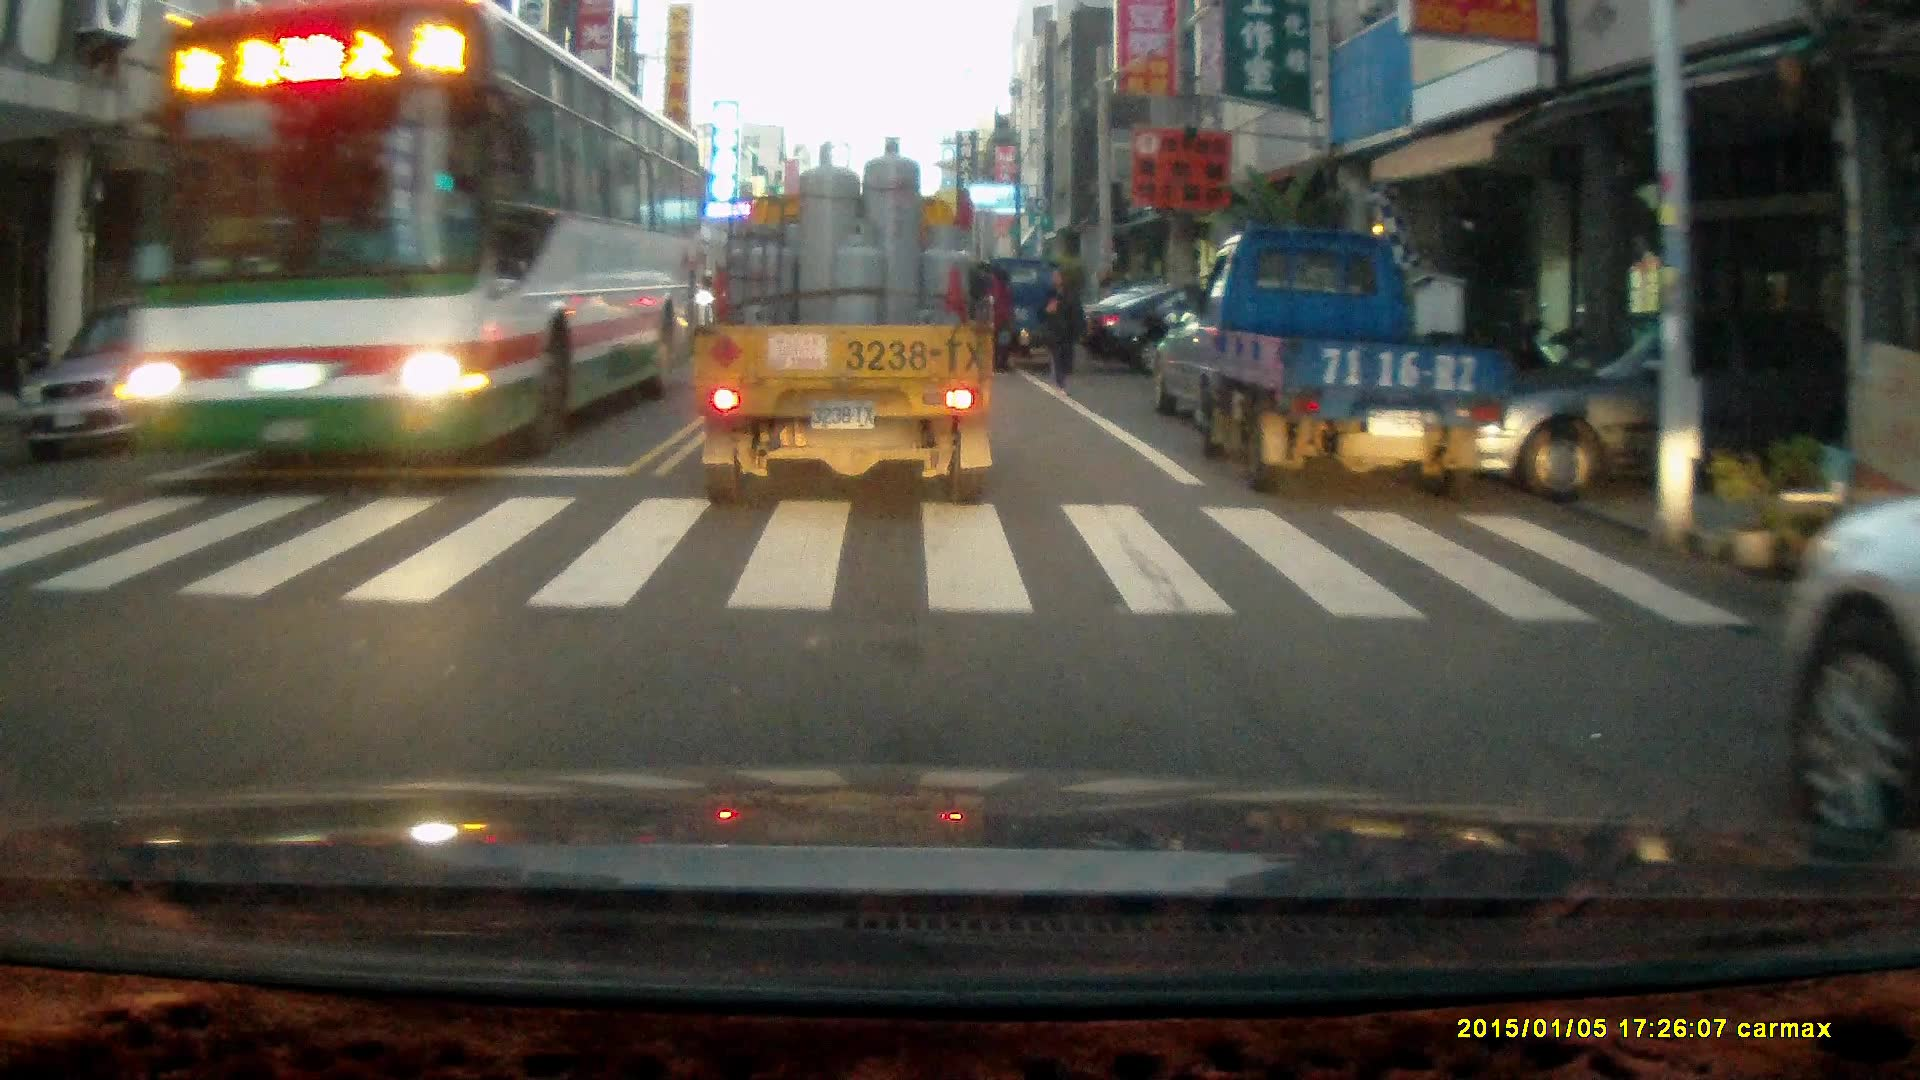pedestrian: (1035, 262, 1089, 388), (981, 262, 1015, 377)
vehicle: (109, 21, 696, 472), (689, 136, 1001, 512), (1175, 224, 1514, 496), (1775, 476, 1920, 871), (1472, 347, 1859, 491), (16, 290, 275, 465), (978, 260, 1089, 379)
